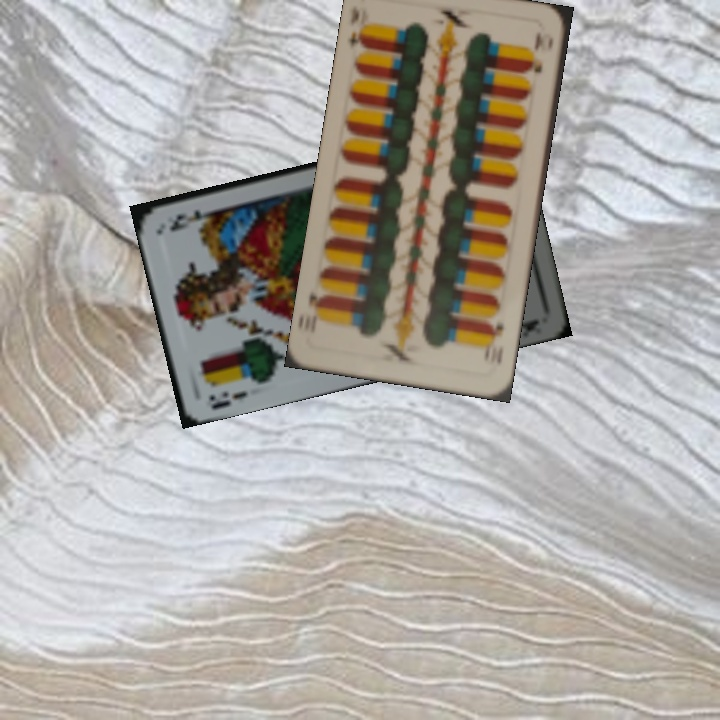E10: (345, 1, 370, 51), (486, 317, 506, 366)
EK: (204, 387, 251, 412)
